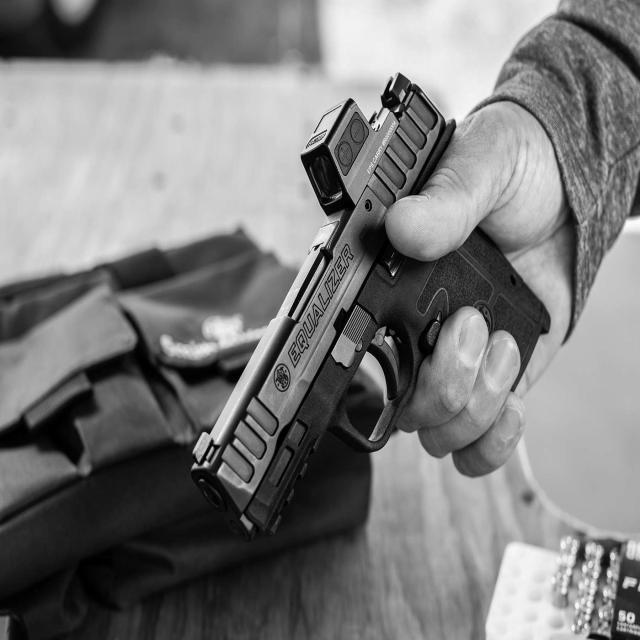Hand-Gun: (189, 60, 556, 563)
